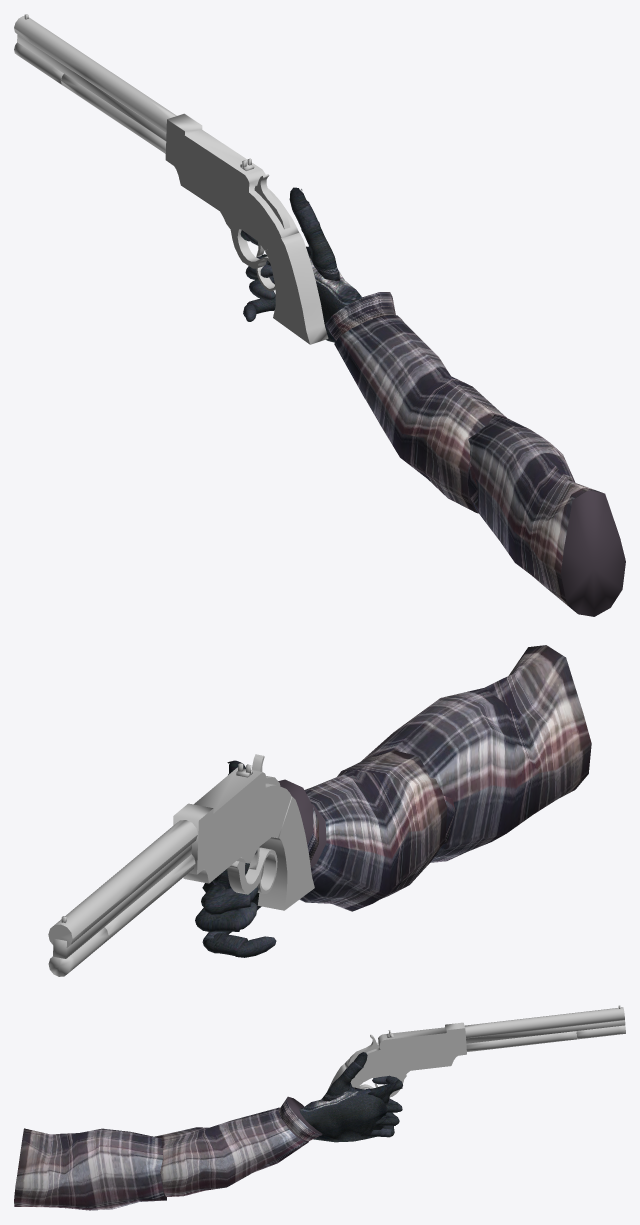
Rendered from volcanic_vfire.fbx.
3 views of the same model, one above another, from view 1: azimuth 30°, elevation 25°; view 2: azimuth 150°, elevation 25°; view 3: azimuth 270°, elevation 25° (orthographic). The views are drawn at different scales.
Visible parts, largest first — view 1: rupperarm, rforearm, volcanic_body, volcanic_barrel, volcanic_grip, rhand, rthumbback, volcanic_lever; view 2: rupperarm, rforearm, volcanic_body, volcanic_barrel, volcanic_grip, volcanic_lever, volcanic_magazinecap, rmfingermiddle, rifingermiddle, rpinkymiddle, rpinkyfront; view 3: rupperarm, rforearm, volcanic_body, volcanic_barrel, rhand, rthumbback, volcanic_magazinecap, rpfingerback.
Part boxes in pixels (box(x1,y1,x2,y2)): rupperarm: box(468, 415, 625, 616); rforearm: box(325, 292, 507, 513); volcanic_body: box(165, 113, 298, 250); volcanic_barrel: box(14, 16, 176, 153); volcanic_grip: box(265, 232, 328, 344); rhand: box(268, 257, 362, 342); rthumbback: box(303, 226, 339, 280); volcanic_lever: box(230, 229, 275, 291); rupperarm: box(360, 645, 591, 862); rforearm: box(278, 750, 447, 911); volcanic_body: box(173, 767, 291, 883); volcanic_barrel: box(48, 820, 197, 958); volcanic_grip: box(257, 796, 314, 910); volcanic_lever: box(227, 847, 277, 894); volcanic_magazinecap: box(48, 927, 108, 976); rmfingermiddle: box(203, 888, 250, 914); rifingermiddle: box(196, 910, 240, 932); rpinkymiddle: box(204, 933, 247, 957); rpinkyfront: box(233, 936, 276, 957); rupperarm: box(14, 1128, 166, 1210); rforearm: box(154, 1096, 322, 1196); volcanic_body: box(344, 1022, 466, 1081); volcanic_barrel: box(464, 1007, 625, 1051); rhand: box(299, 1090, 387, 1142); rthumbback: box(321, 1071, 370, 1101); volcanic_magazinecap: box(576, 1025, 625, 1039); rpfingerback: box(368, 1079, 402, 1104).
Bounding box in the file's own units: 6.64 × 12.18 × 38.61.
